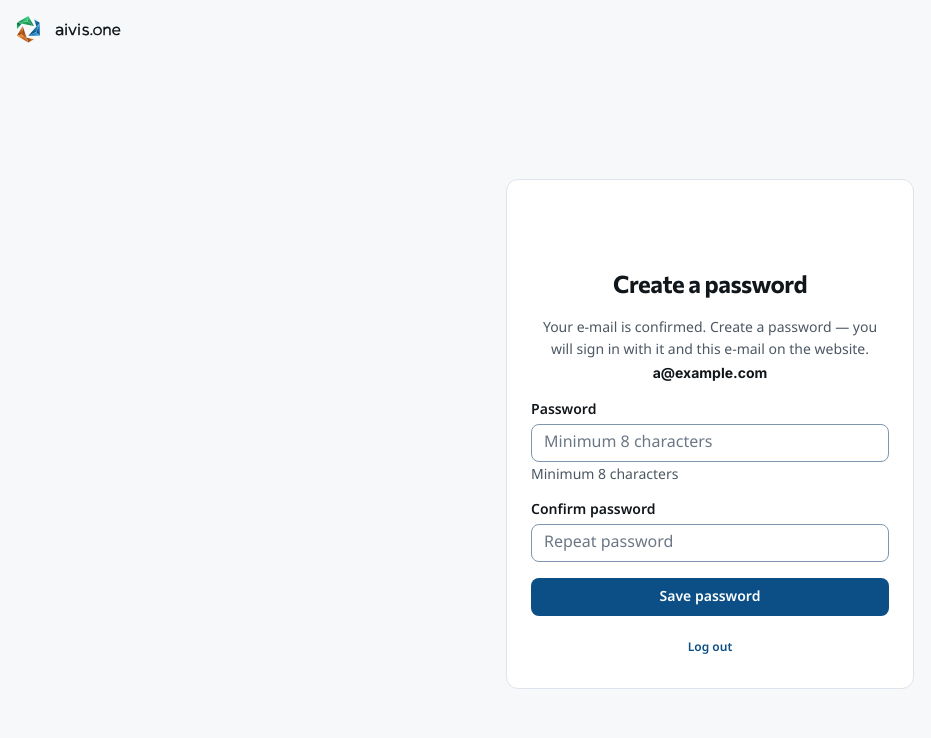
Test: SetPasswordView › refuses empty before sending
Click the button with class "ds-button--primary": (710, 597) [531, 578, 889, 616]
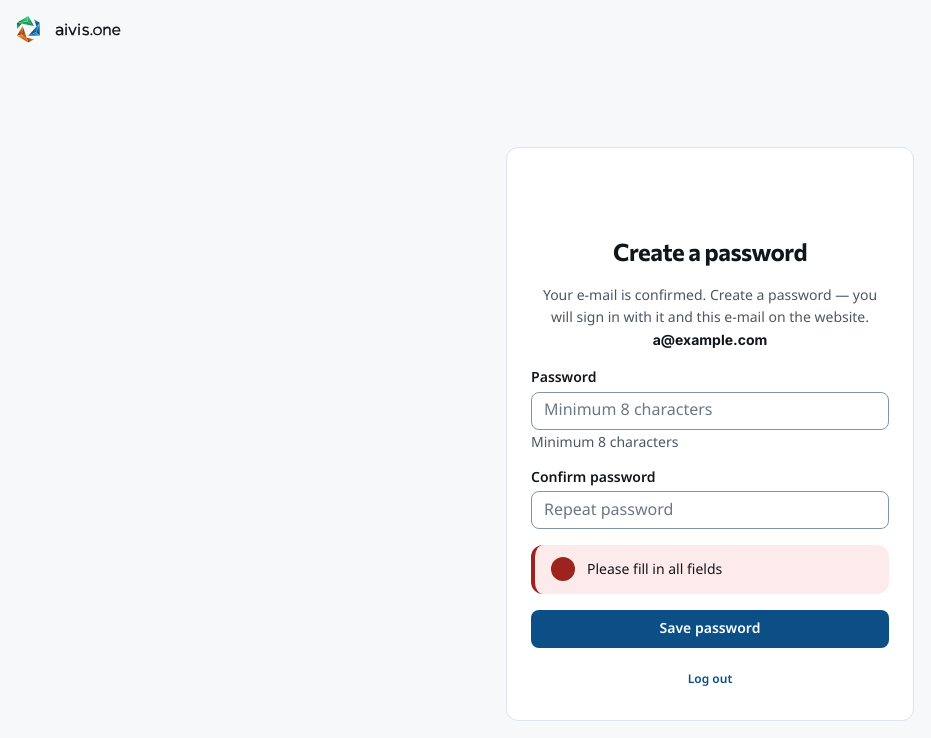
Check: the message "Please fill in all fields" is shown, box [531, 545, 889, 594]
